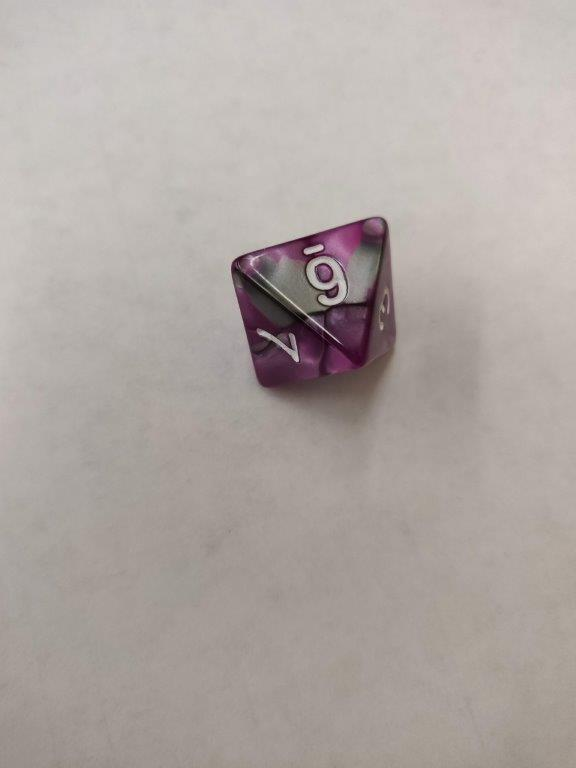d8-6: (231, 217, 398, 386)
